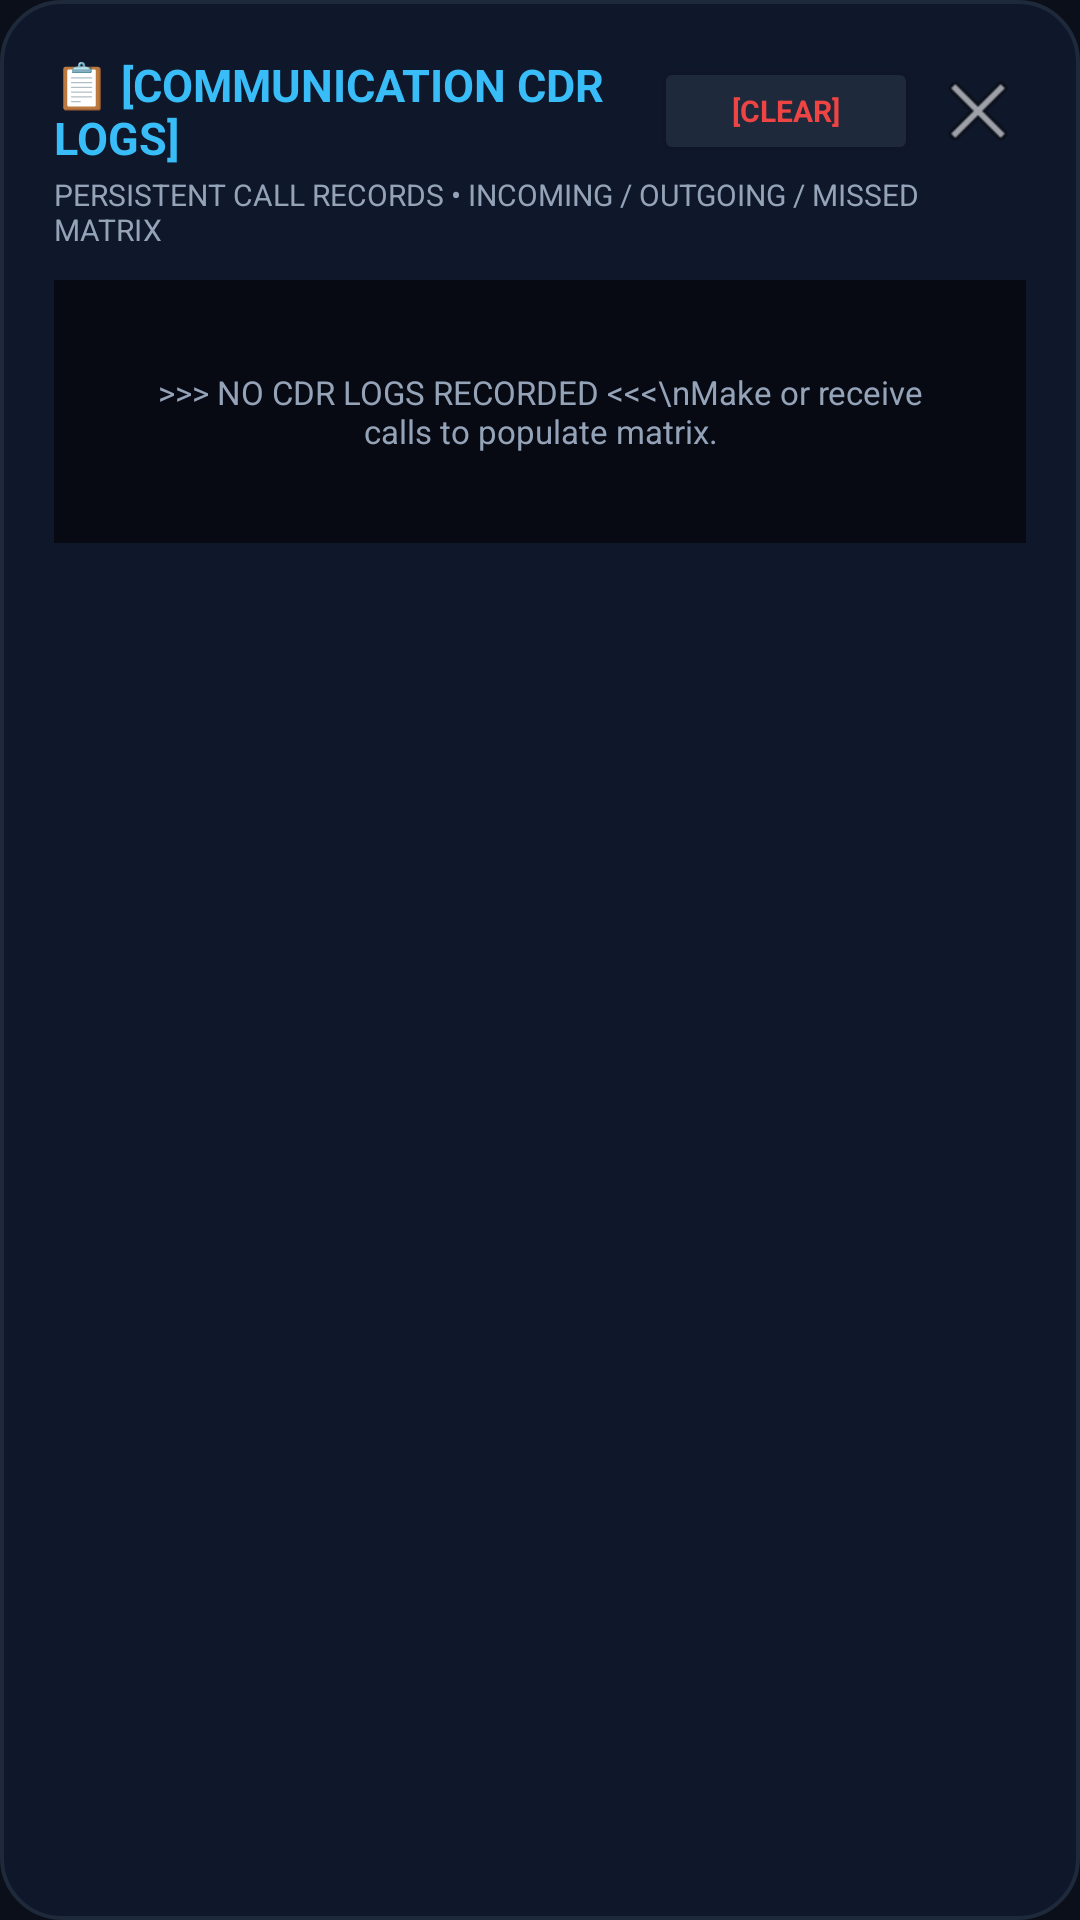

Screen size 1080x1920. Icon name, then its center in pixels as (x,y):
Close: (978,111)
